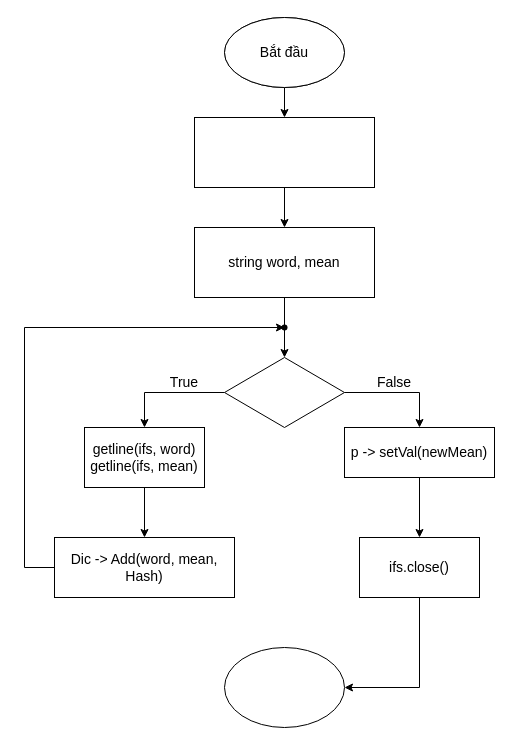
Image size: 512x745. Some labels were removed from this diagram. Each missing label, with the centre of its shape:
ifs.eof() == 0: pixel 284 392
ifstream ifs("tudien.txt"): pixel 284 152
Kết thúc: pixel 284 687
